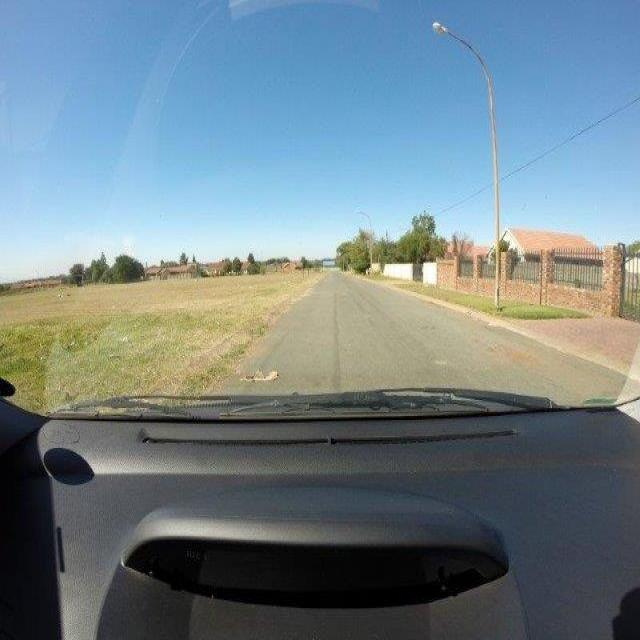lubang: (480, 335, 544, 369), (239, 366, 282, 388)
